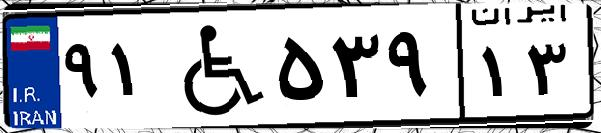1: (475, 38, 525, 113), (110, 28, 158, 98)
3: (330, 28, 385, 110), (525, 38, 570, 115)
5: (270, 28, 330, 110)
9: (385, 28, 445, 110), (57, 26, 110, 100)
ژ (معلولین و جانبازان): (158, 12, 270, 120)
